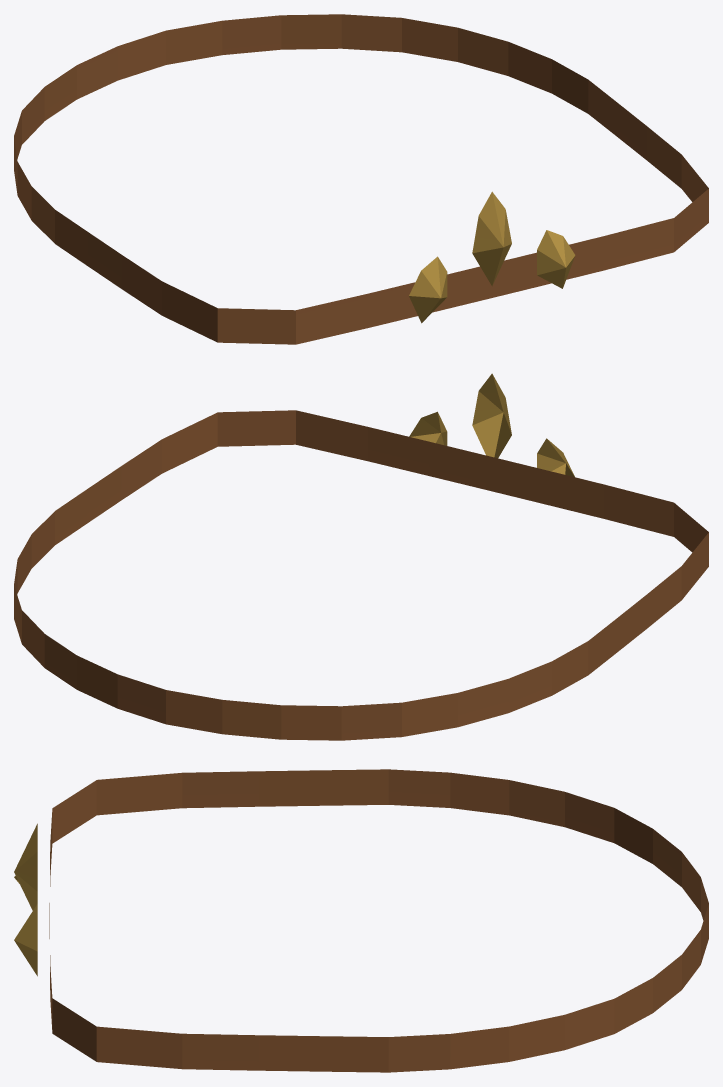
File: elfo_diadema_1.glb
3 renders of one model, top to bottom at view 1: azimuth 30°, elevation 25°; view 2: azimuth 150°, elevation 25°; view 3: azimuth 270°, elevation 25°, orthographic. The views are drawn at different scales.
Parts seen in each view (by area): view 1: elfo_diadema_1; view 2: elfo_diadema_1; view 3: elfo_diadema_1.
Part boxes in pixels (x1,y1,x2,y2): elfo_diadema_1: (14,14,708,344); elfo_diadema_1: (14,373,708,740); elfo_diadema_1: (14,769,708,1072).
Bounding box in the file's own units: 0.9384 × 0.1931 × 1.03.
Materials: 1 (1 with a texture image).
